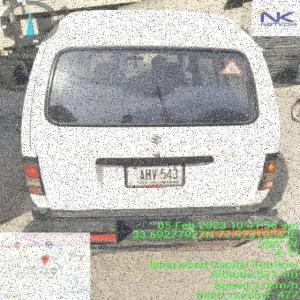Plate: (128, 163, 186, 189)
